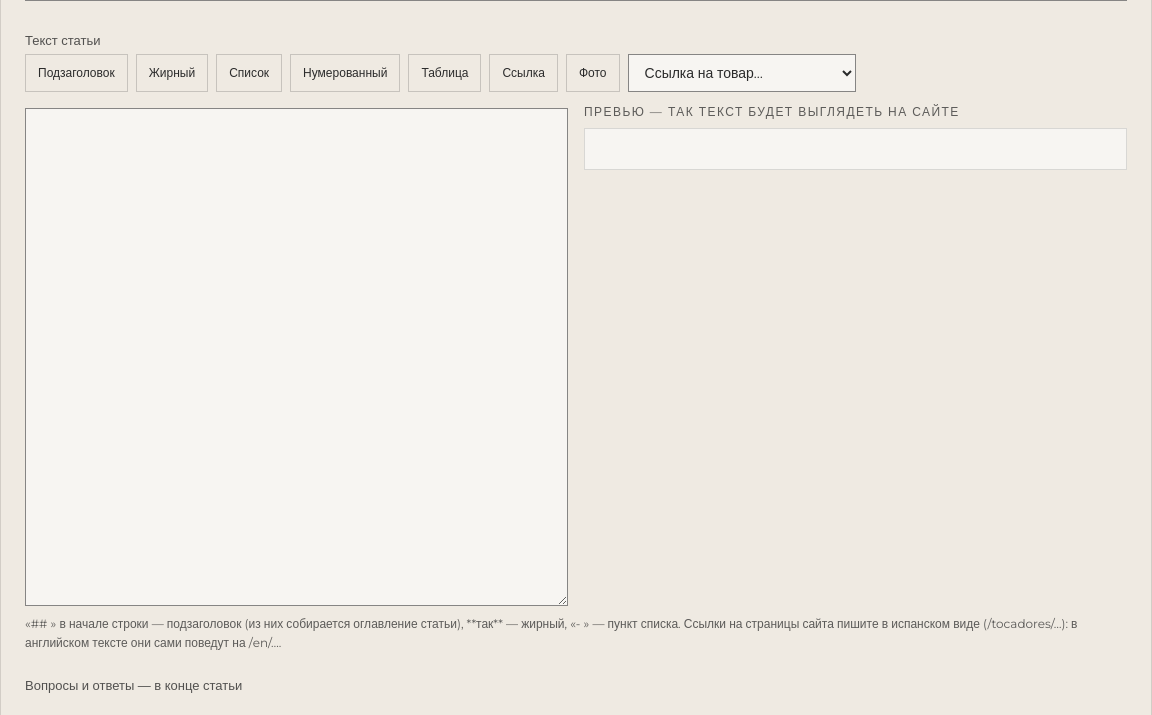
Scenario: GuideEditor › writes the marks for you and previews the page
(page scrolled)
Type "Altura" into the text box labelled "Текст статьи" at (296, 357), box [25,108,568,606]
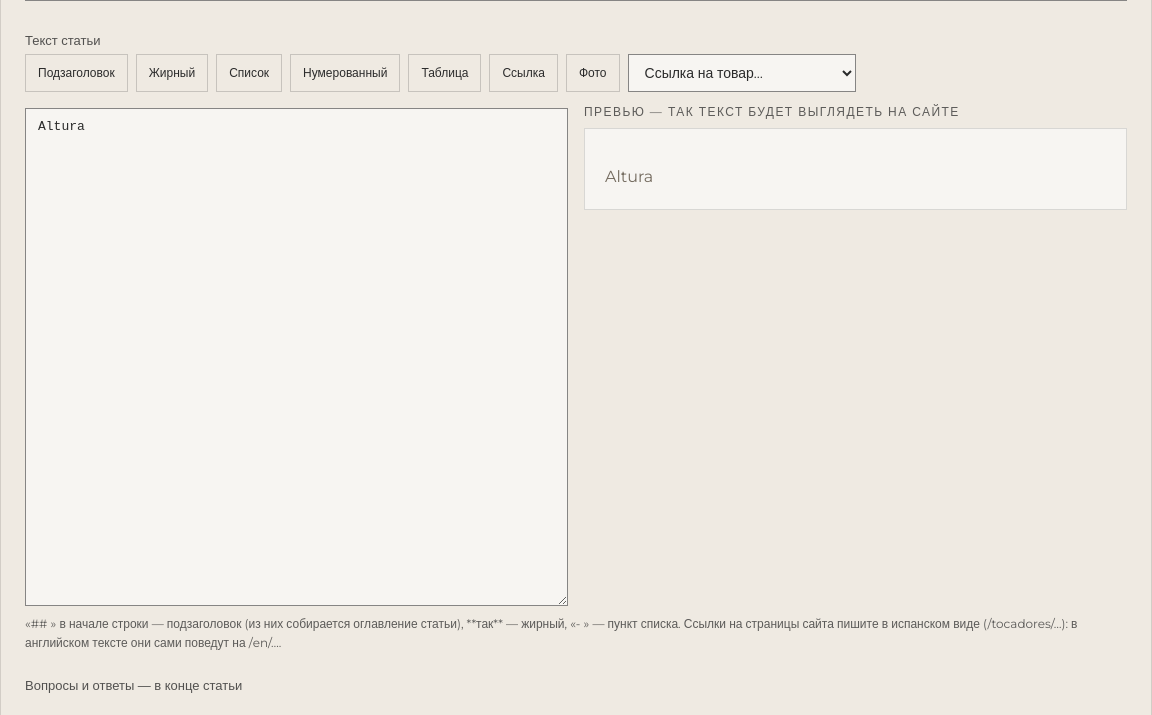
Click the button "Подзаголовок" at (76, 73), box [25,54,128,92]
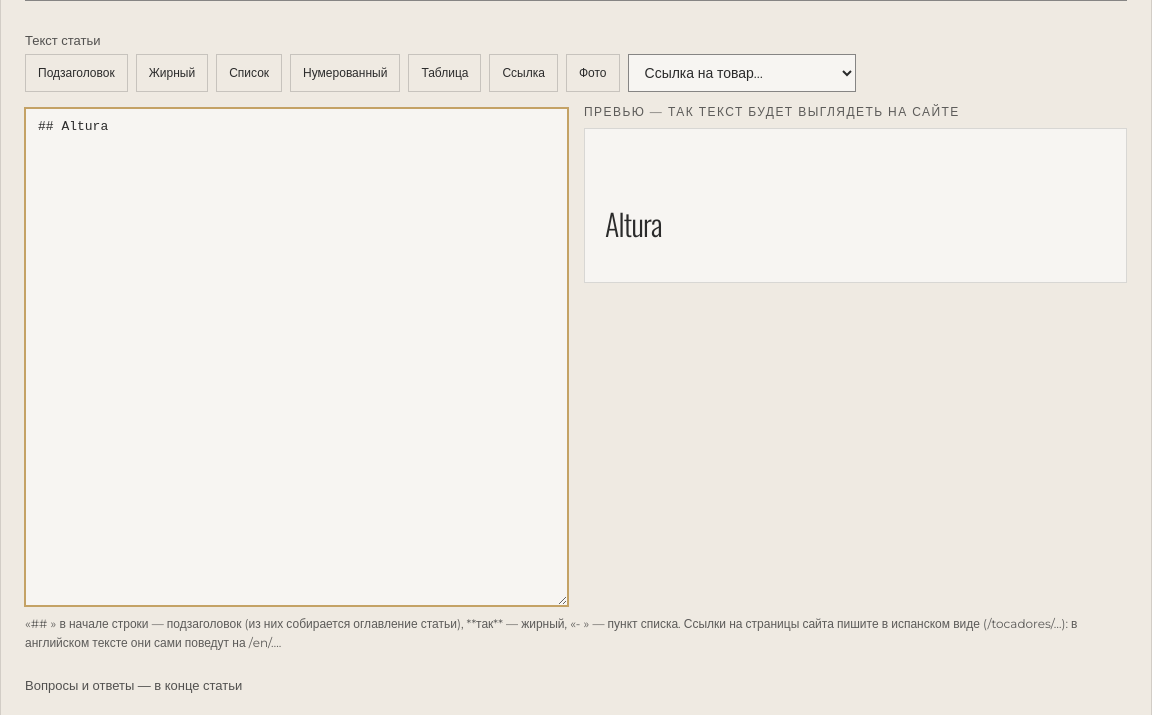
Expected: the heading "Altura" is shown, [605,201,662,246]
Expected: the text box labelled "Текст статьи" holds "## Altura", [25,108,568,606]
